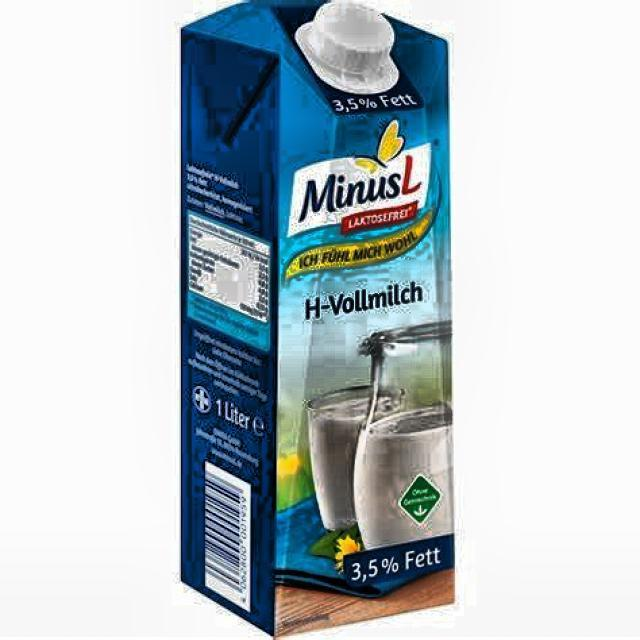cardboard: (178, 0, 455, 637)
